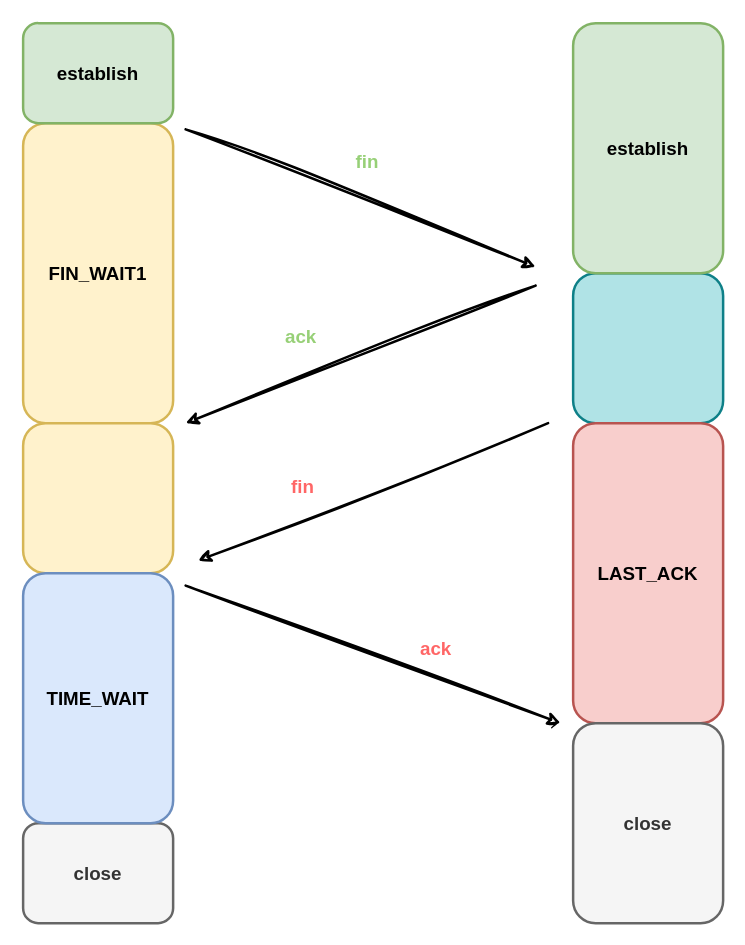
The diagram is 745 pixels wide and 945 high, and some of its shapes have lost their labels. Each missing label, with the box of its shape:
CLOSE_WAIT: (571, 271, 724, 424)
FIN_WAIT2: (21, 421, 174, 574)
